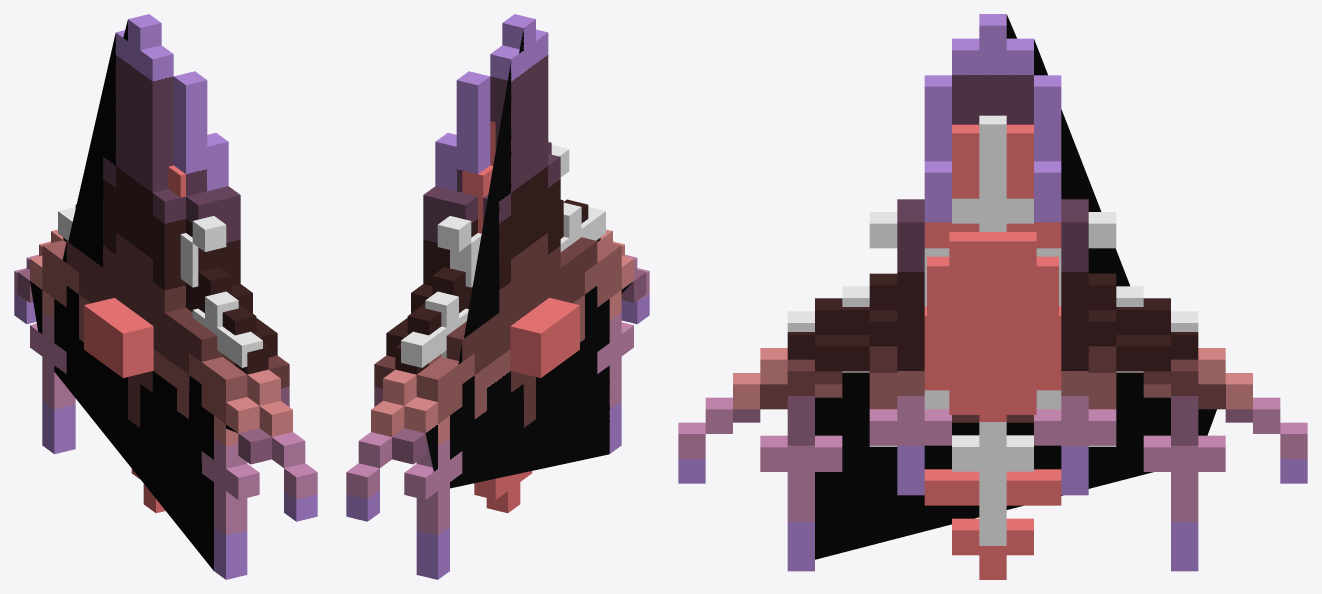
The model's file is mage_battle_angel.fbx.
3 renders of one model, left to right at view 1: azimuth 30°, elevation 25°; view 2: azimuth 150°, elevation 25°; view 3: azimuth 270°, elevation 25°, orthographic. The views are drawn at different scales.
Visible parts, largest first — view 1: mage_battle_angel-4, mage_battle_angel-0, mage_battle_angel-2, mage_battle_angel-3, mage_battle_angel-1; view 2: mage_battle_angel-4, mage_battle_angel-0, mage_battle_angel-2, mage_battle_angel-1, mage_battle_angel-3; view 3: mage_battle_angel-4, mage_battle_angel-3, mage_battle_angel-0, mage_battle_angel-1, mage_battle_angel-2.
Boxes of the visible parts, x1=… form: mage_battle_angel-4: x1=14, y1=14, x2=317, y2=579; mage_battle_angel-0: x1=58, y1=207, x2=262, y2=367; mage_battle_angel-2: x1=84, y1=298, x2=138, y2=376; mage_battle_angel-3: x1=108, y1=299, x2=153, y2=377; mage_battle_angel-1: x1=131, y1=165, x2=185, y2=513; mage_battle_angel-4: x1=346, y1=14, x2=649, y2=579; mage_battle_angel-0: x1=401, y1=145, x2=605, y2=367; mage_battle_angel-2: x1=510, y1=303, x2=577, y2=377; mage_battle_angel-1: x1=462, y1=121, x2=532, y2=513; mage_battle_angel-3: x1=533, y1=298, x2=579, y2=350; mage_battle_angel-4: x1=678, y1=14, x2=1307, y2=571; mage_battle_angel-3: x1=924, y1=232, x2=1058, y2=414; mage_battle_angel-0: x1=787, y1=115, x2=1198, y2=545; mage_battle_angel-1: x1=924, y1=124, x2=1061, y2=579; mage_battle_angel-2: x1=927, y1=232, x2=1061, y2=414.
Size of the model in its own units: 44.38 by 220 by 230.
Materials: 1 (1 with a texture image).
